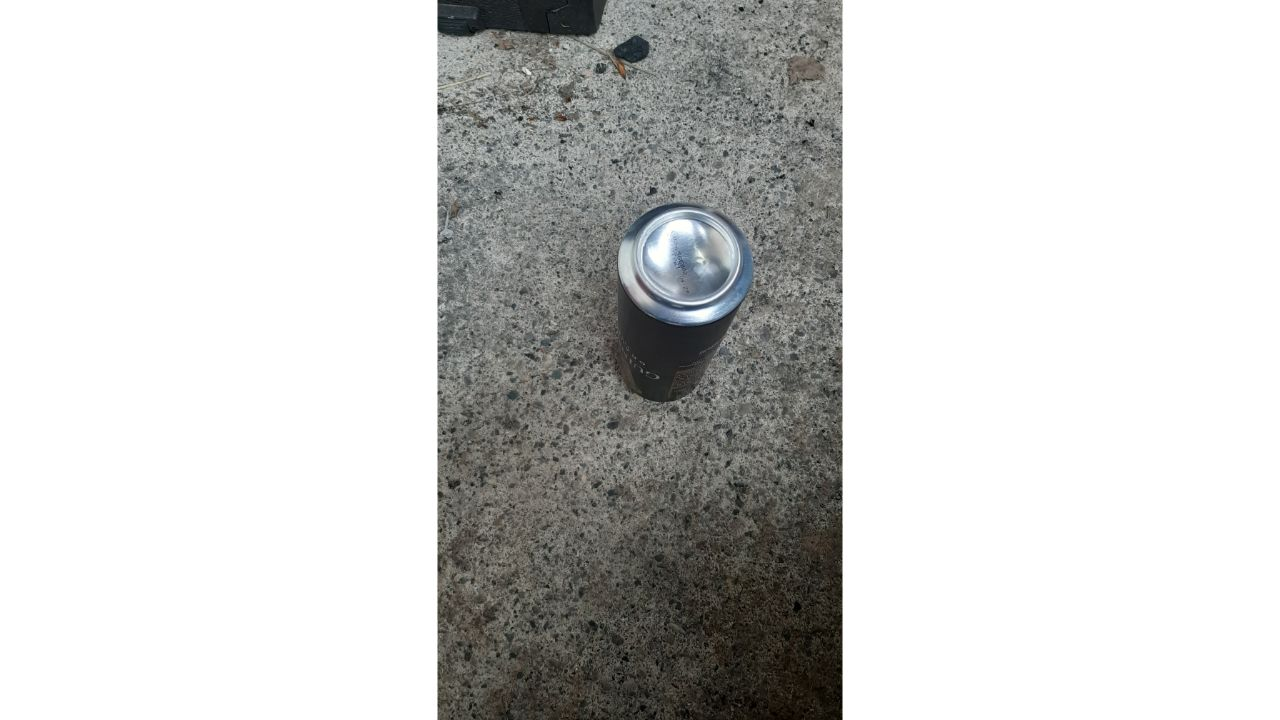Can: (587, 186, 765, 420)
